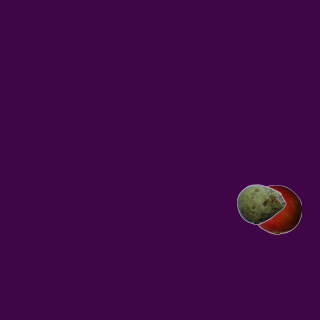Apple Braeburn: (251, 184, 301, 234)
Pear Stone: (236, 179, 286, 229)
